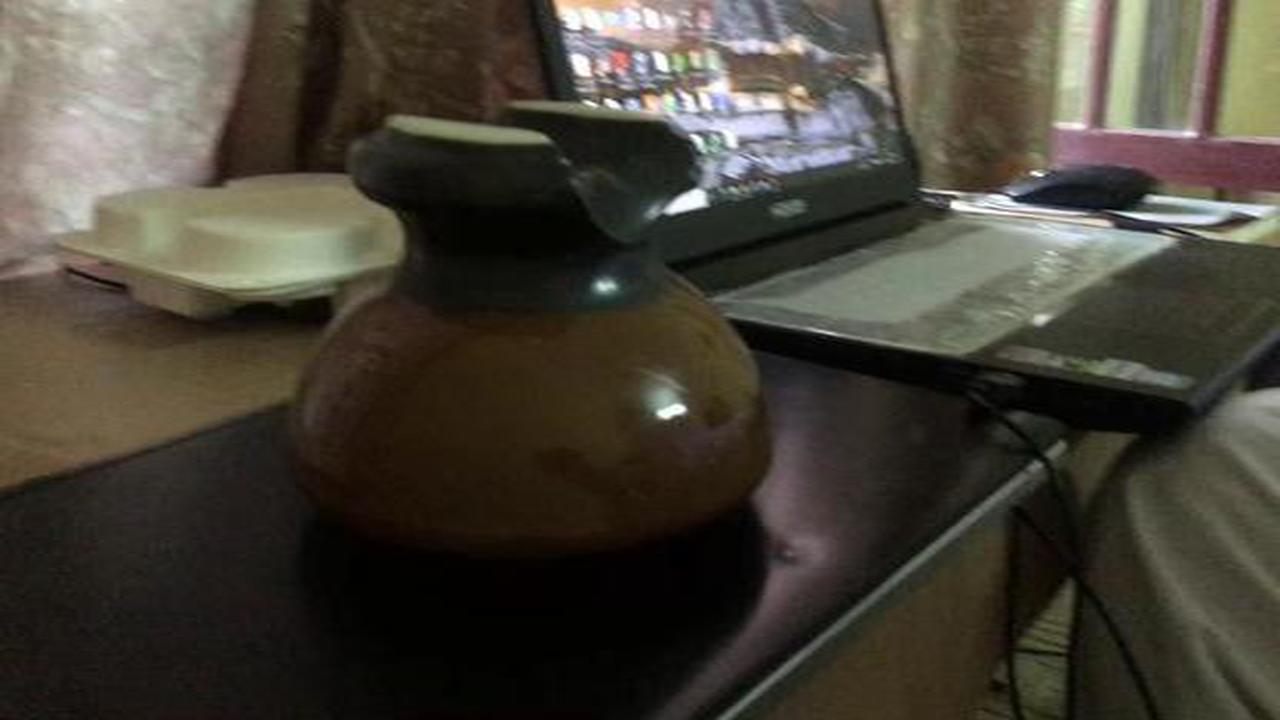insulator_pin: (250, 87, 822, 577)
